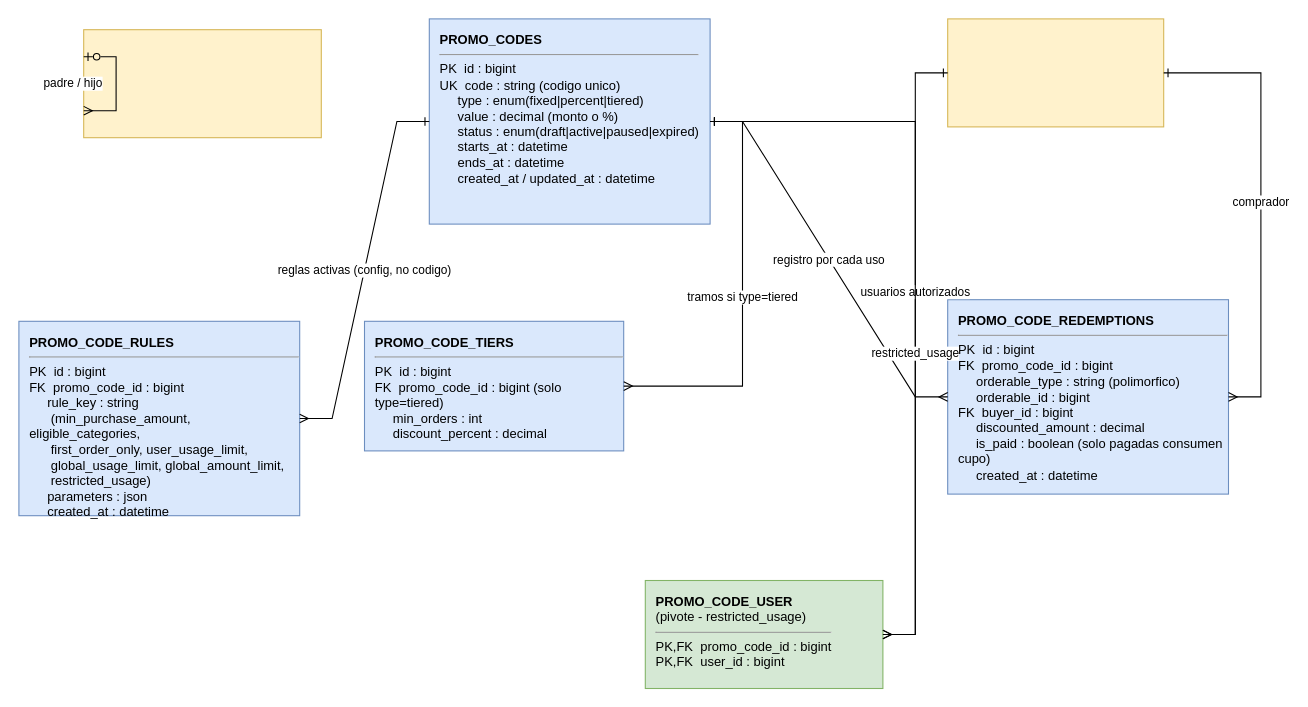
This 1308x707 diagram has some shape labels left out. The shapes that lost their labels are listed below. From the top down, each one's box as (x1, y1, x2, y2) in pixels, then its label:
(83, 29, 321, 138): CATEGORIES PK id : bigint FK parent_id : bigint (nullable) name : string
(947, 18, 1164, 127): USERS PK id : bigint name : string UK email : string
